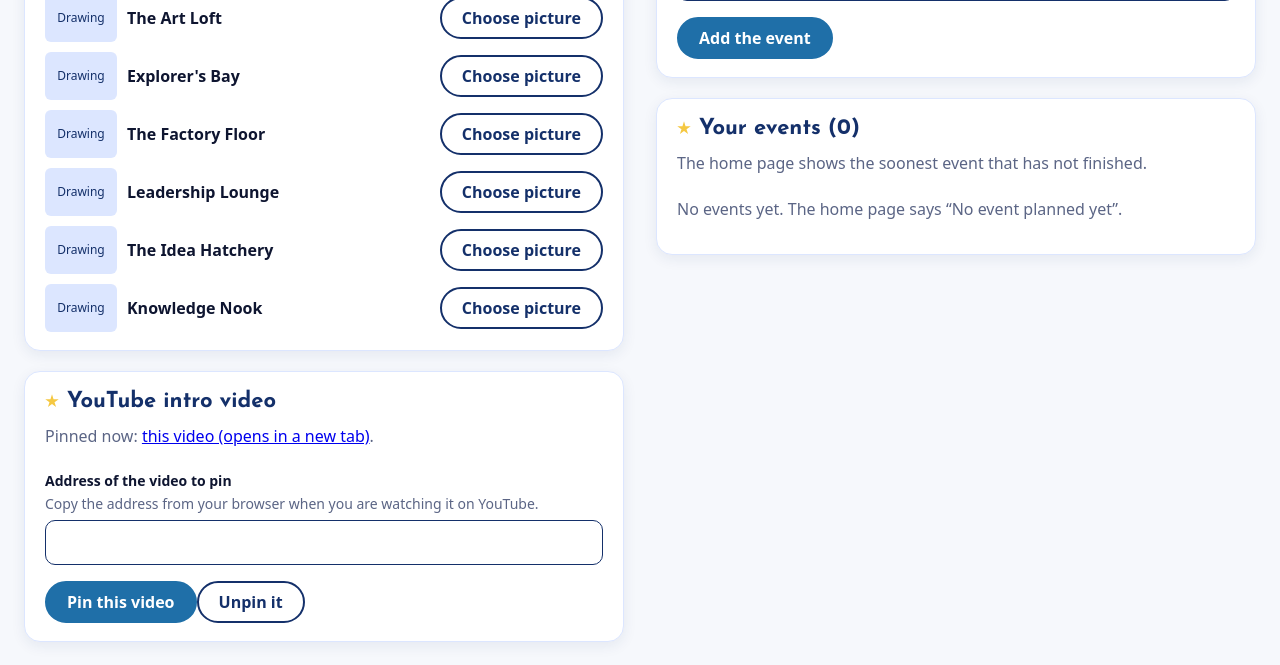
Scenario: lets her unpin it again
(page scrolled)
Click the button "Unpin it". click: (251, 602)
box: top-left (196, 581), bottom-right (305, 623)
(page scrolled)
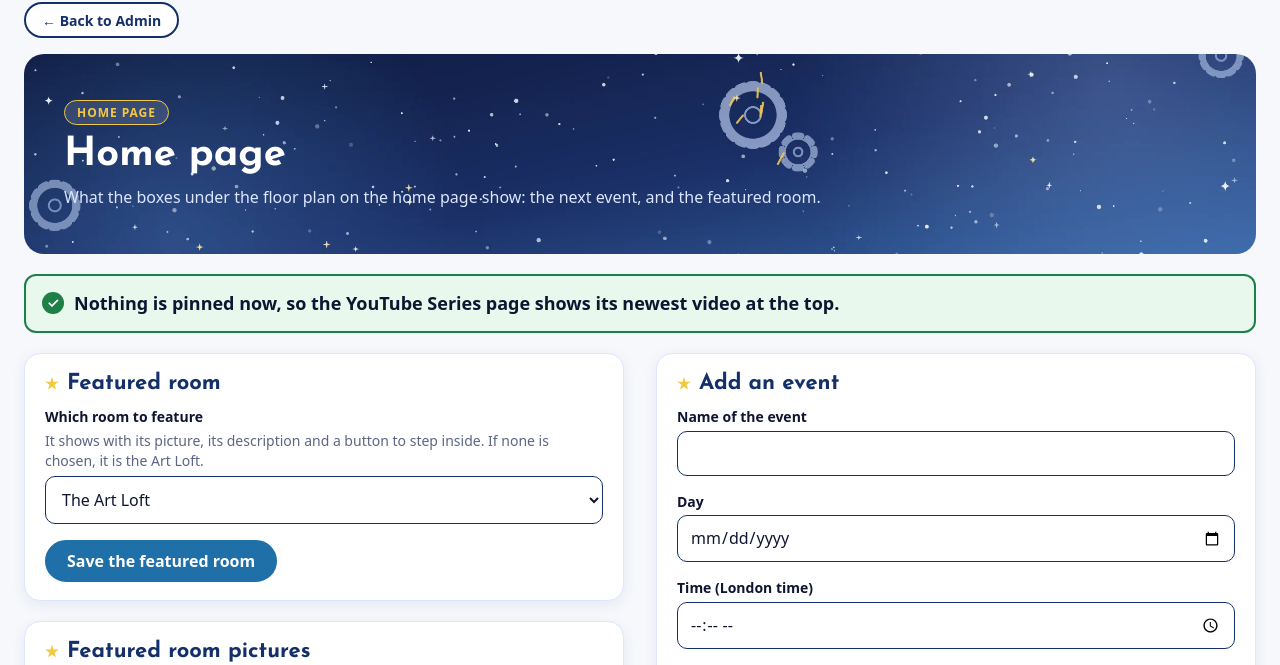
Expected: the text "Nothing is pinned now" is shown, top-left (74, 291), bottom-right (839, 315)
